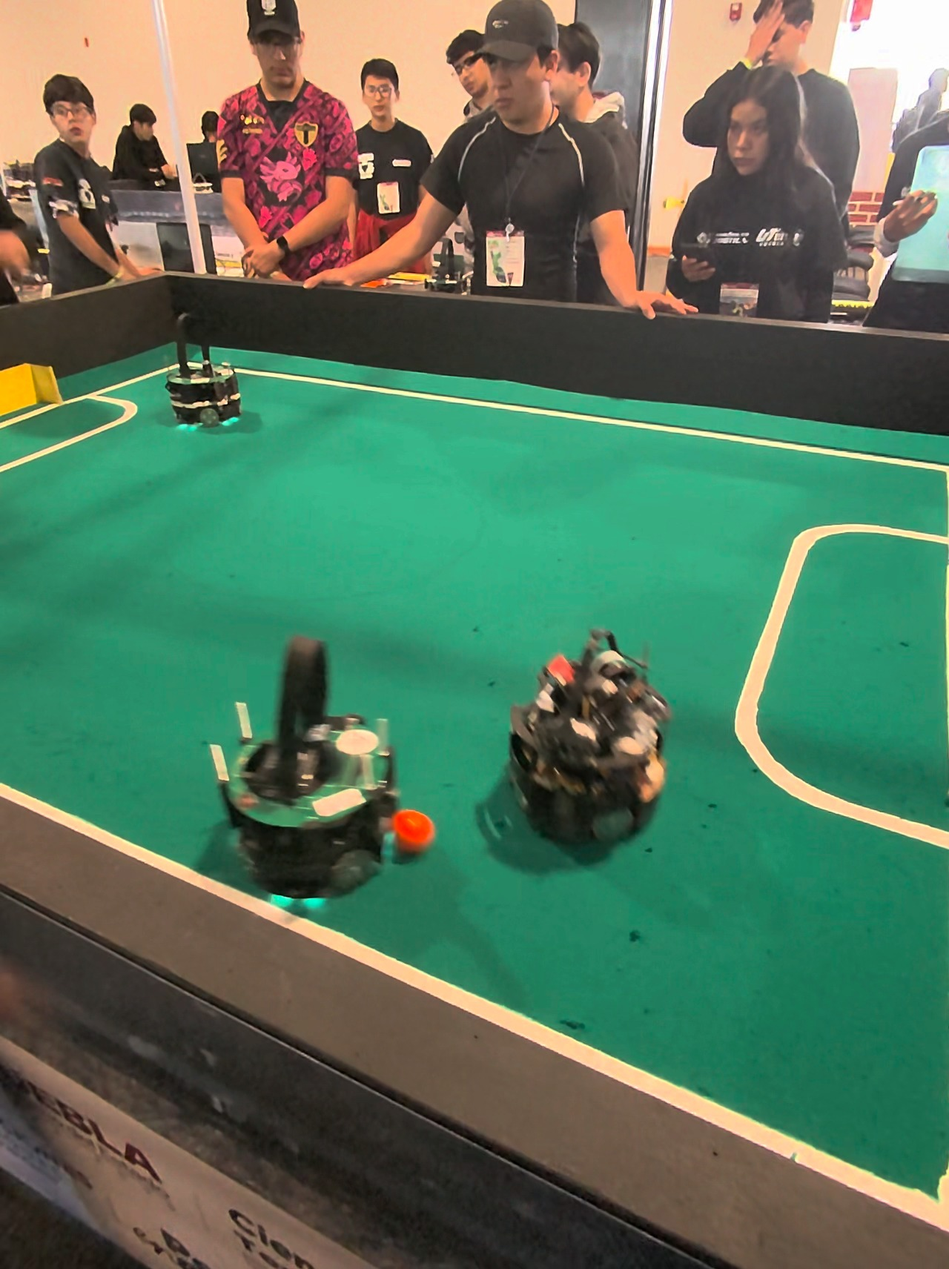Robot: (210, 619, 422, 914), (504, 623, 681, 875), (160, 313, 243, 439)
pelota: (394, 810, 437, 865)
